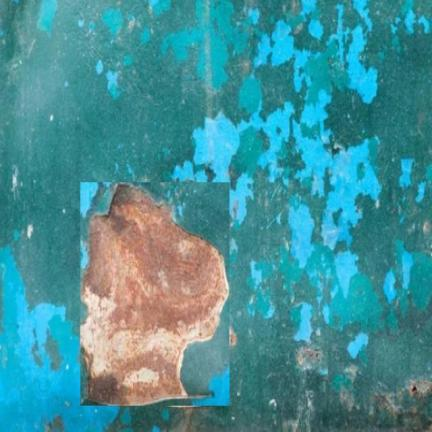karat: (81, 185, 228, 404)
